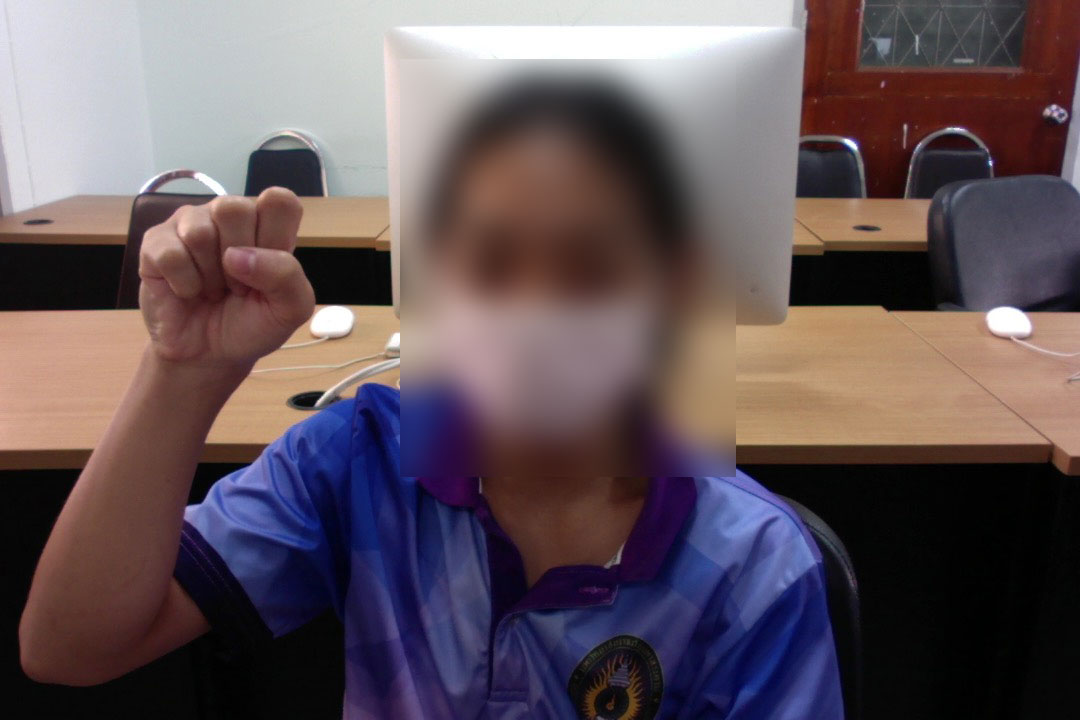sor: (129, 177, 323, 406)
